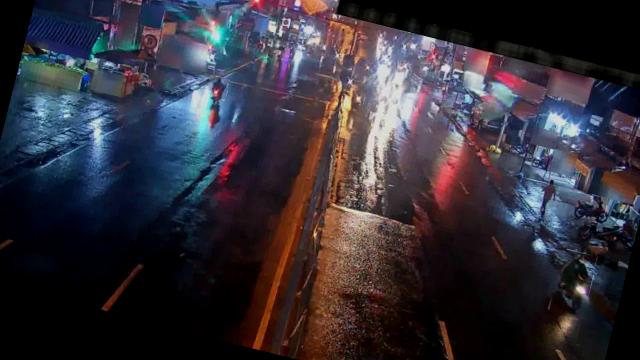Bike: (548, 249, 598, 319), (569, 191, 608, 224), (204, 75, 230, 102), (347, 90, 365, 114)
